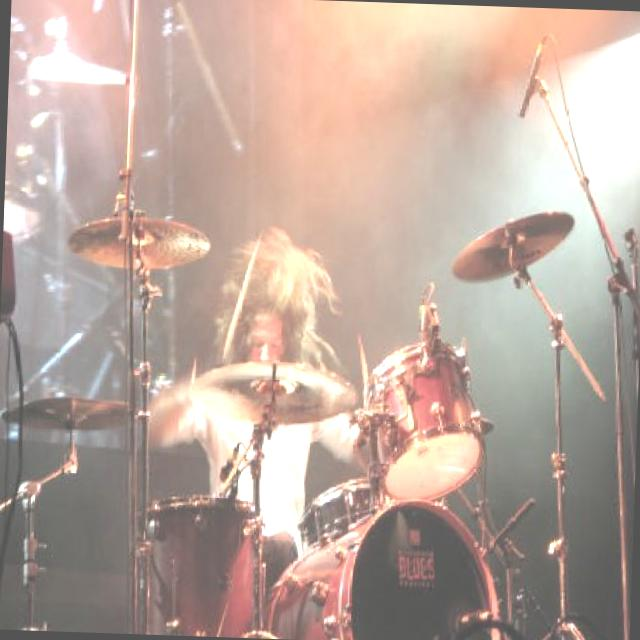Person: (137, 223, 376, 612)
